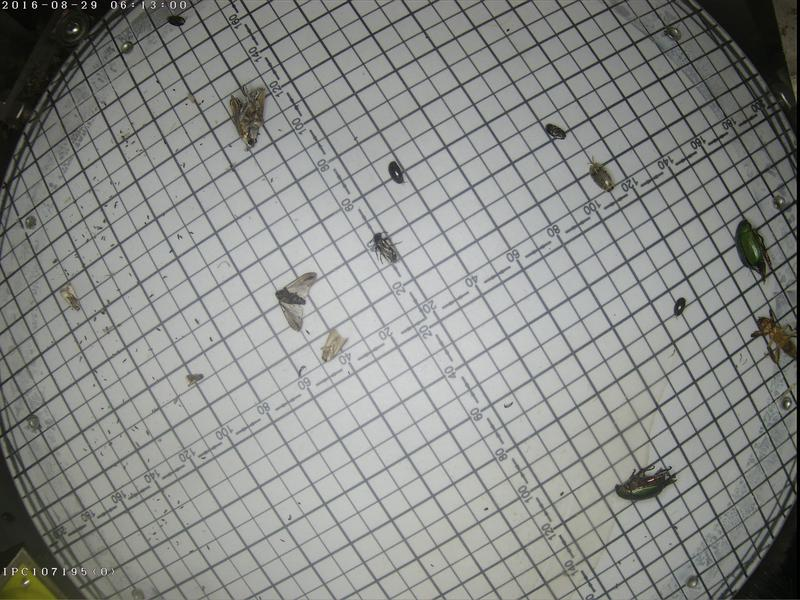Gryllotalpa orientalis: (747, 307, 798, 366)
